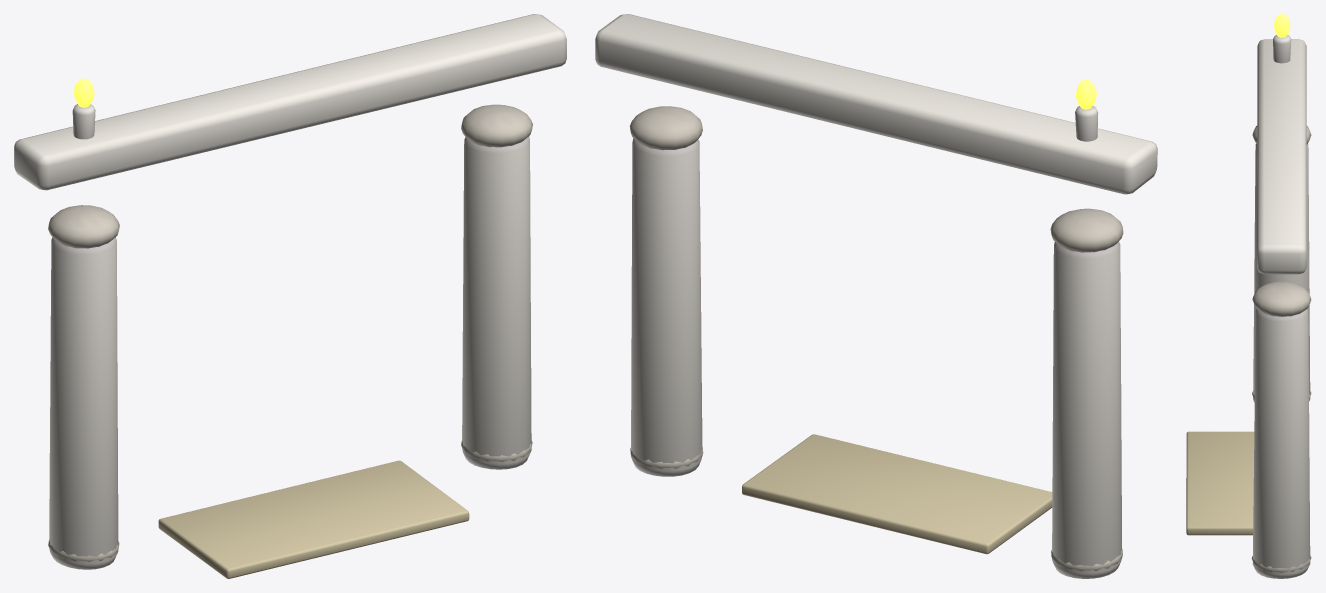
3 renders of one model, left to right at view 1: azimuth 30°, elevation 25°; view 2: azimuth 150°, elevation 25°; view 3: azimuth 270°, elevation 25°, orthographic. The views are drawn at different scales.
Visible parts, largest first — view 1: gate_feef7dd1; view 2: gate_feef7dd1; view 3: gate_feef7dd1.
Boxes of the visible parts, box(x1,y1,x2,y2) form: gate_feef7dd1: box(14, 14, 566, 578); gate_feef7dd1: box(595, 14, 1157, 578); gate_feef7dd1: box(1186, 14, 1311, 578).
Size of the model in its own units: 5.23 by 4.54 by 1.31.
